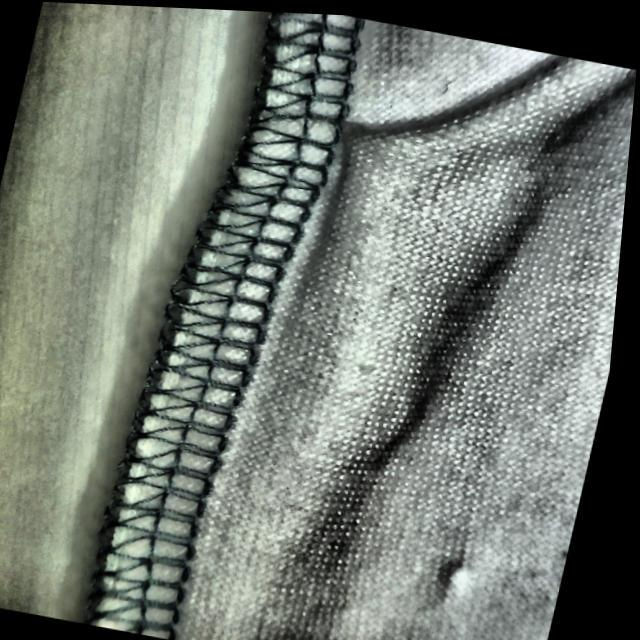seam: (89, 7, 364, 639)
